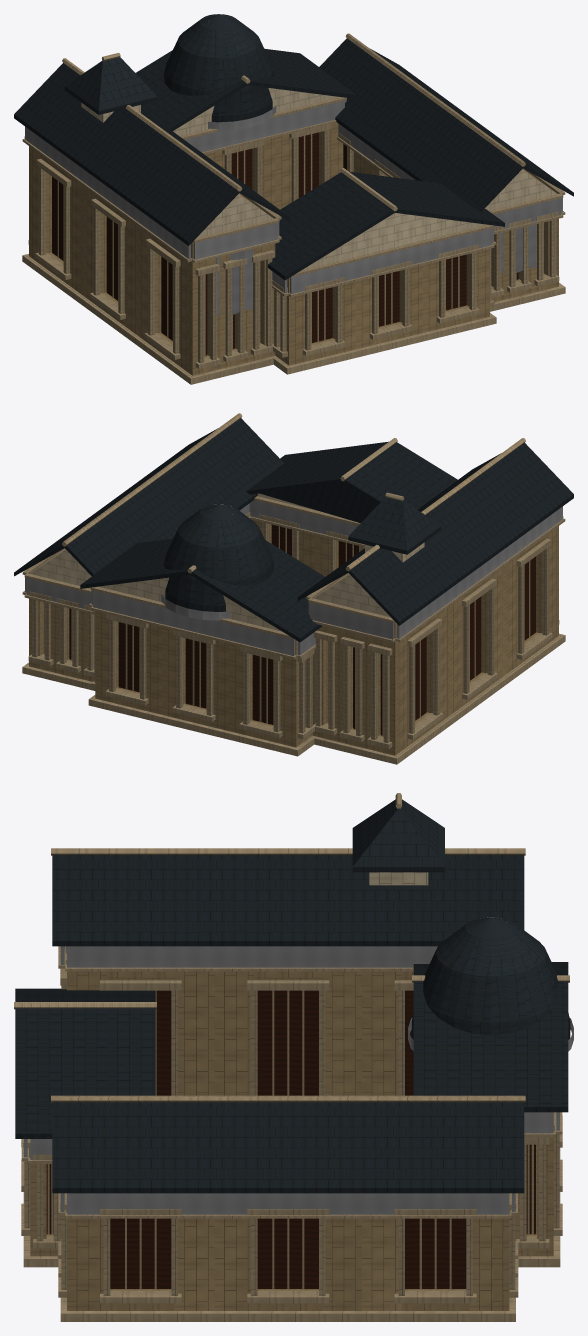
The model's file is university.glb.
The picture shows the model from 3 angles, top to bottom: view 1: azimuth 30°, elevation 25°; view 2: azimuth 150°, elevation 25°; view 3: azimuth 270°, elevation 25°; orthographic projection. The views are drawn at different scales.
Visible parts, largest first — view 1: LOD0; view 2: LOD0; view 3: LOD0.
Boxes of the visible parts, x1,y1,x2,y2 form: LOD0: (14, 14, 573, 384); LOD0: (14, 413, 573, 764); LOD0: (14, 793, 573, 1321).
Size of what is drawn, in the model's own units: 1.63 by 0.9173 by 1.52.
Materials: 2 (2 with a texture image).
